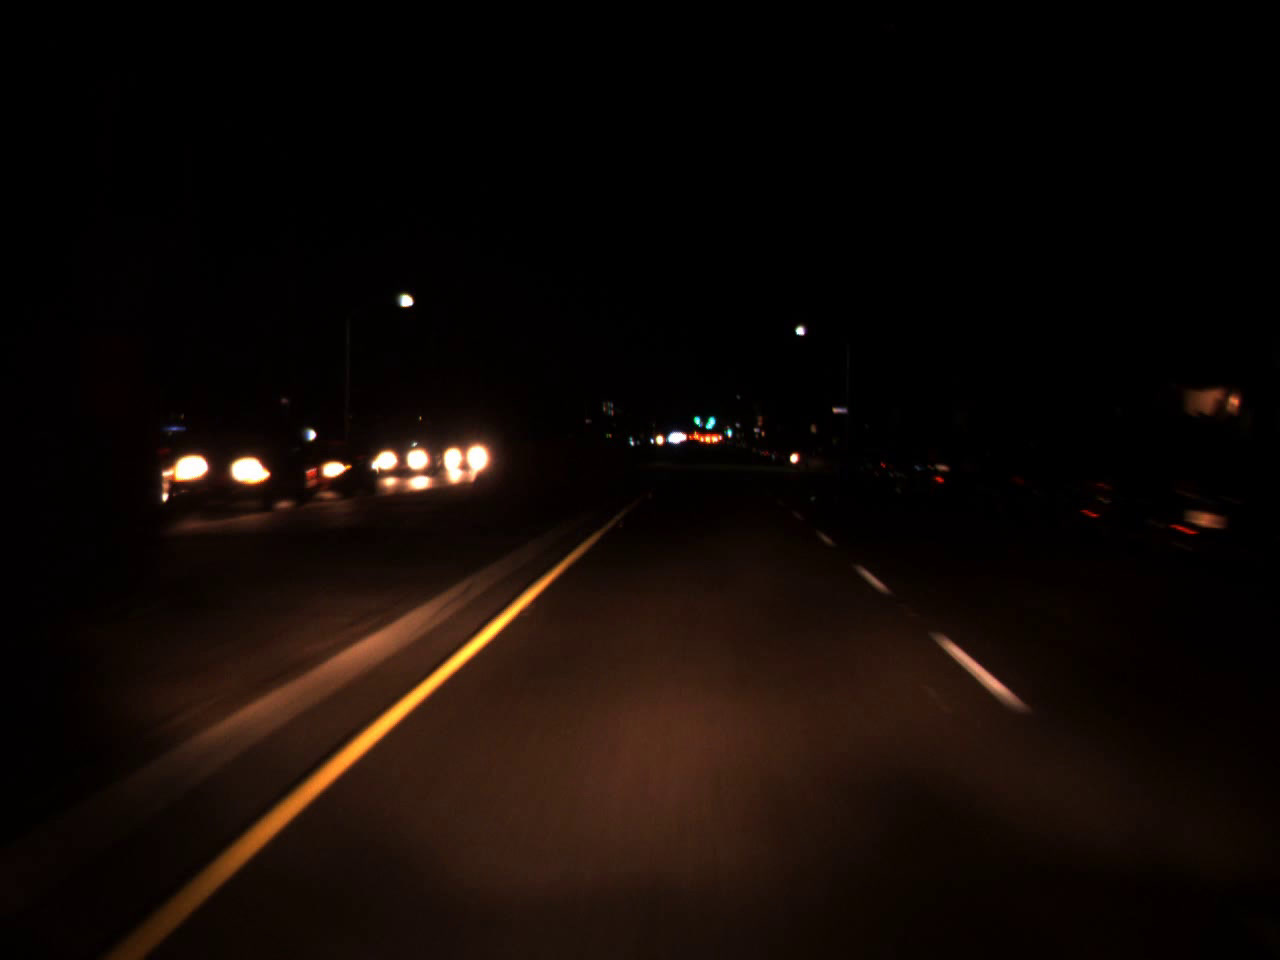go: (701, 403, 717, 433), (690, 408, 700, 426), (725, 424, 732, 436)
